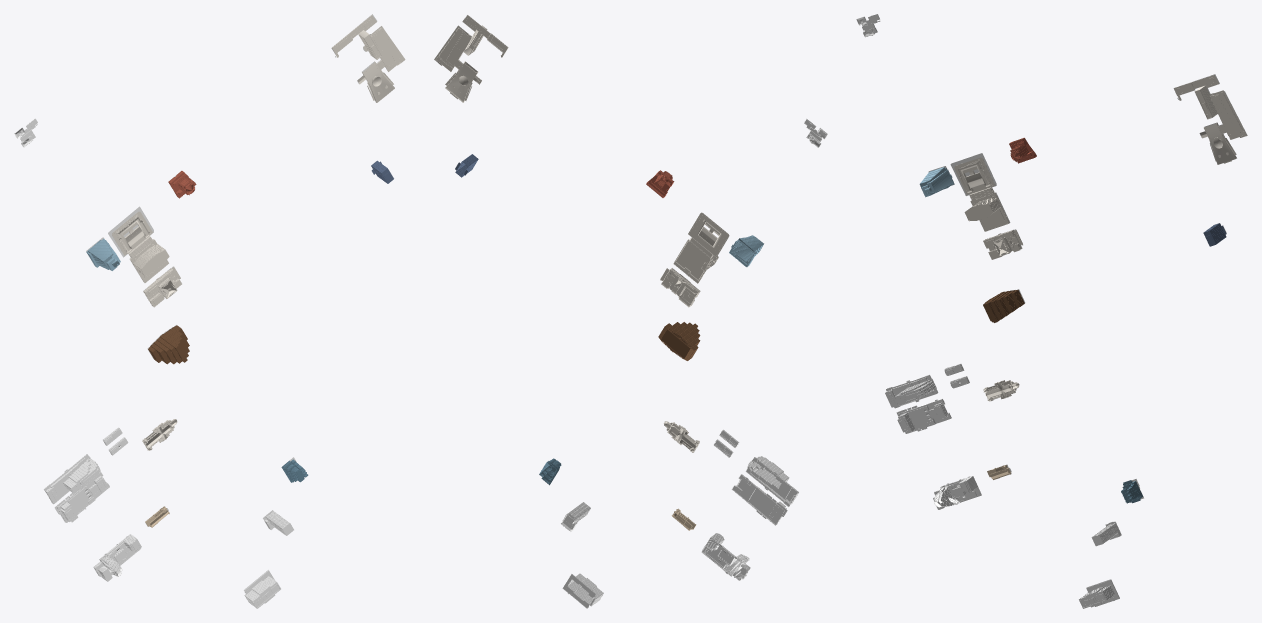
The model's file is 3dbuildings-14-4825-6157.glb.
The picture shows the model from 3 angles, left to right: view 1: azimuth 30°, elevation 25°; view 2: azimuth 150°, elevation 25°; view 3: azimuth 330°, elevation 25°; orthographic projection.
Size of the model in its own units: 5671 by 7785 by 428.
